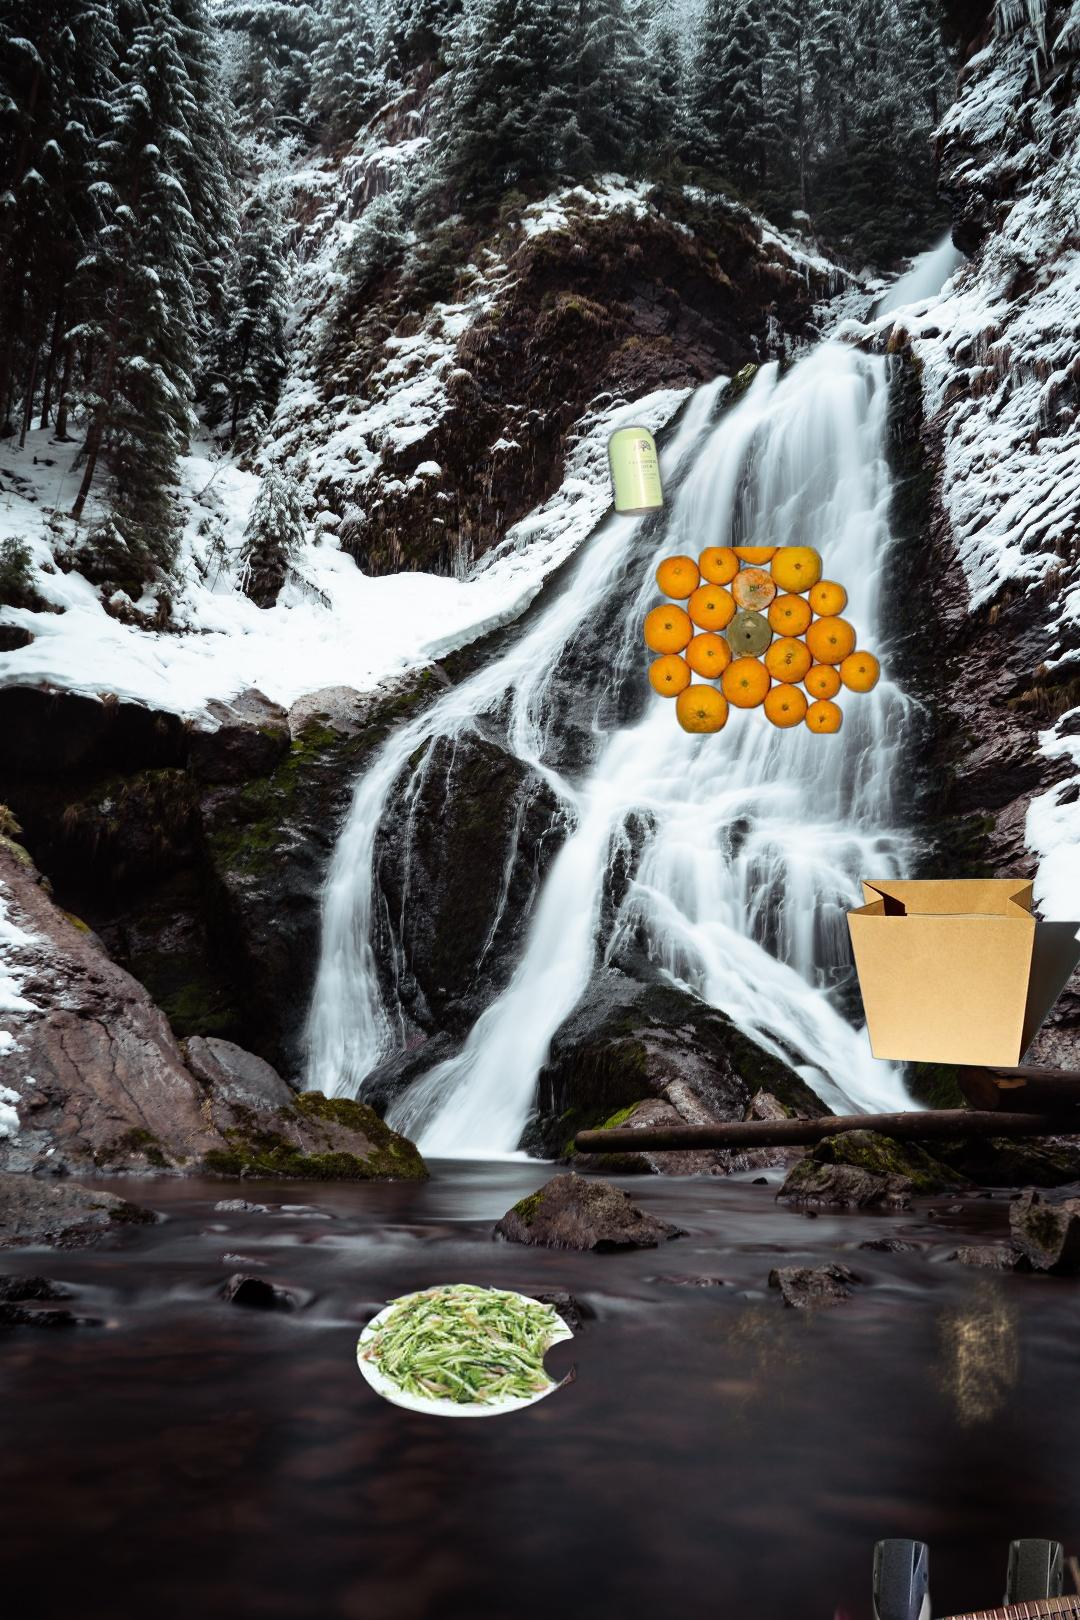biological: (641, 547, 884, 736), (353, 1275, 594, 1420)
metal-cans: (595, 391, 732, 532)
penholder: (829, 1512, 1080, 1620), (862, 1531, 1080, 1620)
trashbox-cardboard: (476, 1242, 1027, 1620), (843, 876, 1080, 1072)
